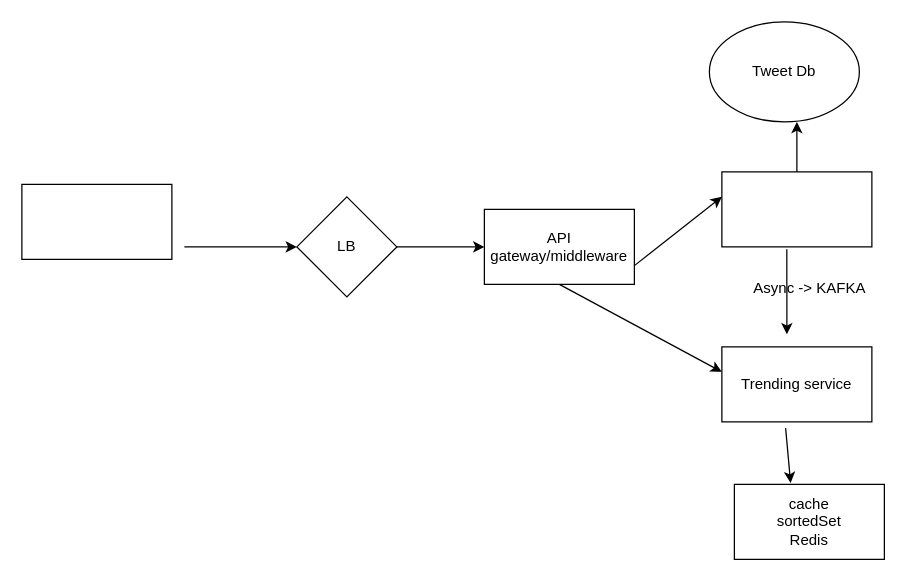
The diagram is 906 pixels wide and 581 high, and some of its shapes have lost their labels. The box of each missing label's shape, as (x1, y1, x2, y2) in pixels:
tweet service: (721, 171, 872, 247)
users: (21, 183, 172, 259)
